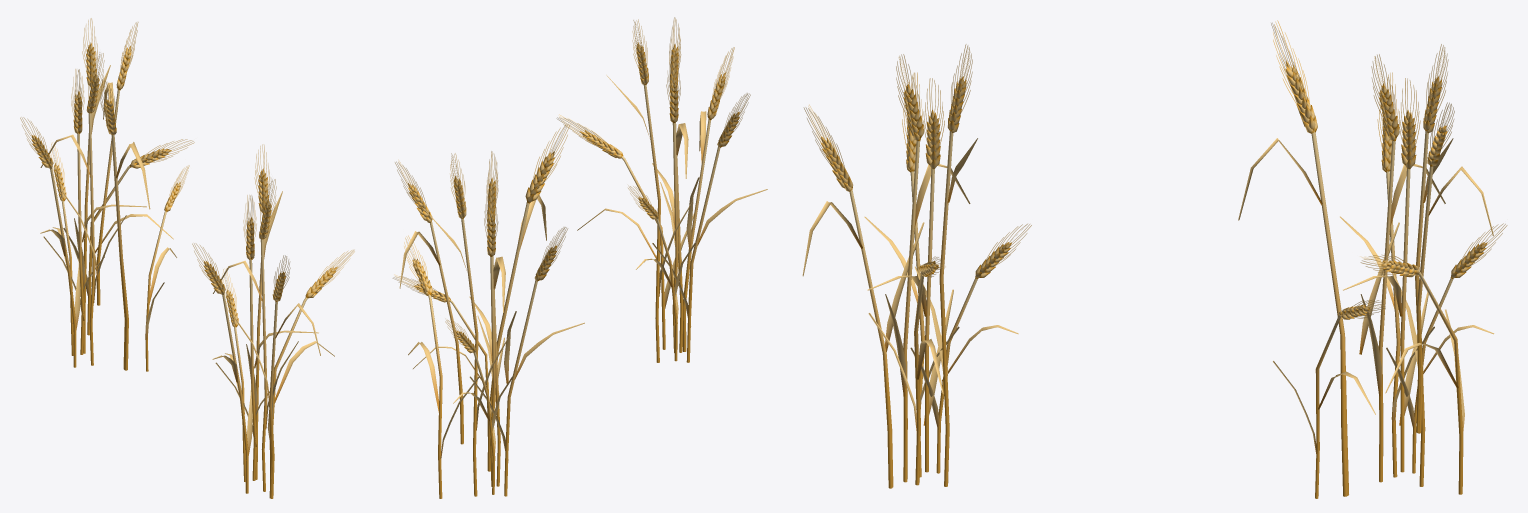
Rendered from wheat.glb.
The picture shows the model from 3 angles, left to right: view 1: azimuth 30°, elevation 25°; view 2: azimuth 150°, elevation 25°; view 3: azimuth 270°, elevation 25°; orthographic projection. The views are drawn at different scales.
Visible parts, largest first — view 1: Wheat.001, Wheat; view 2: Wheat.001, Wheat; view 3: Wheat.001, Wheat.
Part boxes in pixels (x1,y1,x2,y2): Wheat.001: (20,18,194,371); Wheat: (192,144,354,498); Wheat.001: (392,124,584,498); Wheat: (556,17,767,362); Wheat.001: (1238,20,1507,498); Wheat: (802,44,1031,488).
Bounding box in the file's own units: 0.5355 × 0.9331 × 1.32.
Materials: 1 (1 with a texture image).
